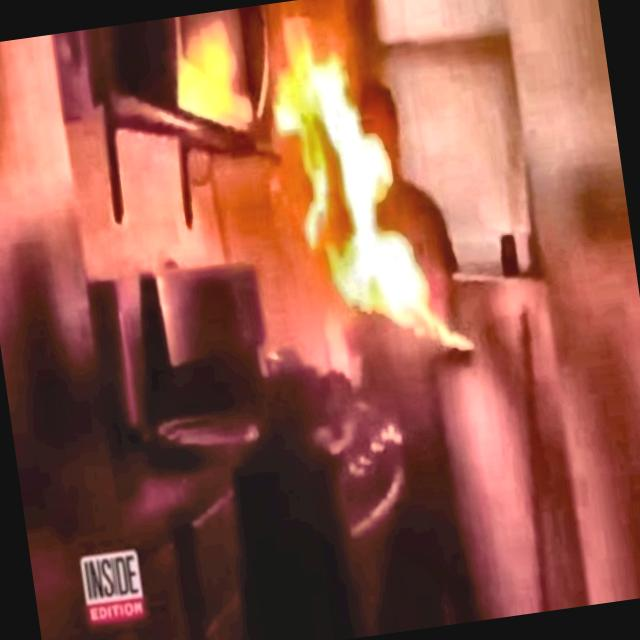fire: (156, 0, 482, 386)
